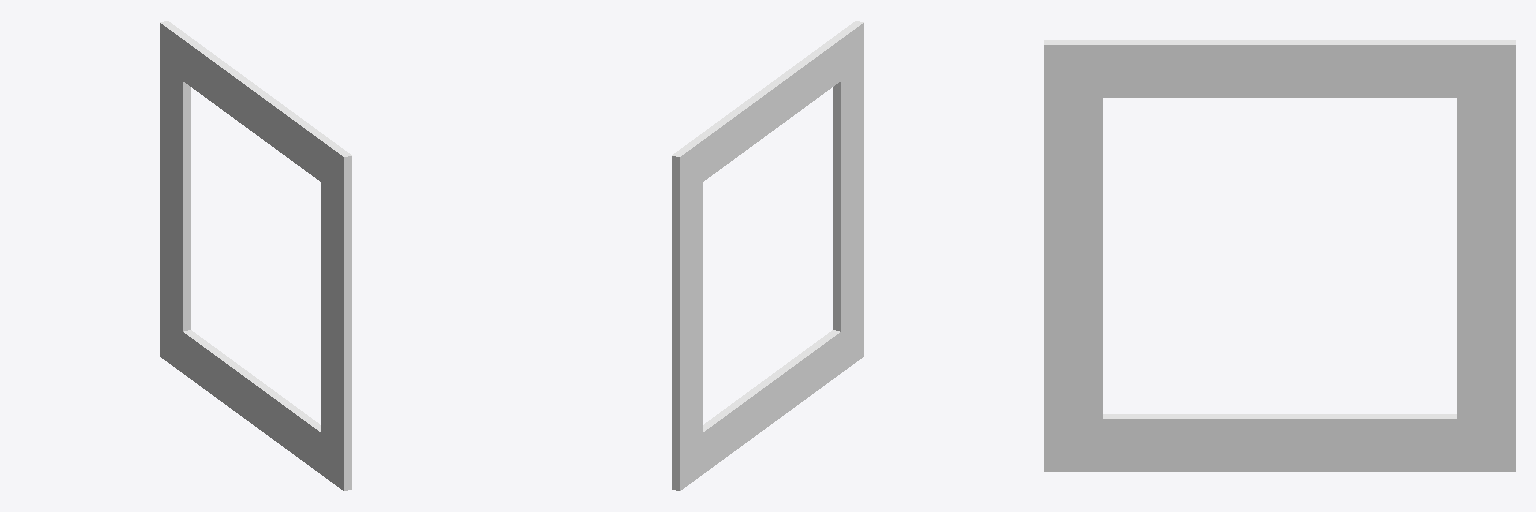
URDF robot description (gate):
<?xml version="1.0"?>

<robot name="gate">

  <link name="base_link">
    
    <inertial>
      <mass value="1.0" />
      <origin xyz="0 0 0" />
      <inertia ixx="1.4142" ixy="0" ixz="0" iyy="1" iyz="0" izz="1" />
    </inertial>
    
    <visual>
      <geometry>
        <mesh filename="gate.obj" scale="1 1 1" />
      </geometry>
      <material name="white">
        <color rgba="1 1 1 1" />
      </material>
    </visual>

    <collision>
      <geometry>
        <mesh filename="gate.obj" scale="1 1 1" />
      </geometry>
    </collision>
    
  </link>
</robot>

--- Render facts (derived) ---
Views: 3 orthographic renders of the robot side by side, from view 1: azimuth 30°, elevation 25°; view 2: azimuth 150°, elevation 25°; view 3: azimuth 270°, elevation 25°.
Model gate with 1 links and 0 joints (none), rooted at base_link, posed all joints at 0.
Visible links, largest first — view 1: base_link; view 2: base_link; view 3: base_link.
Boxes of the visible links, x1,y1,x2,y2 form: base_link: [160, 21, 351, 490]; base_link: [672, 21, 863, 490]; base_link: [1044, 40, 1515, 471].
Size in the robot's own frame: 0.05 by 2 by 2 metres.
1 mesh visuals loaded from 1 distinct referenced files (1 OBJ).